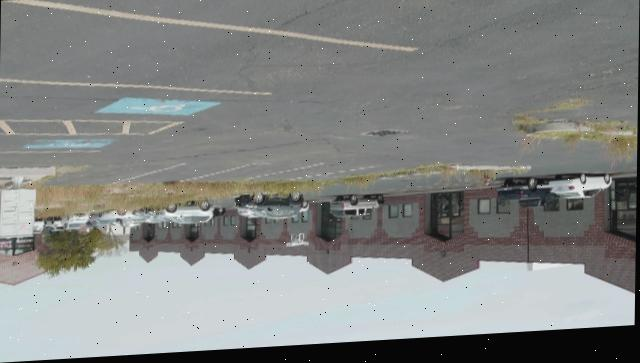drone: (285, 236, 313, 254)
